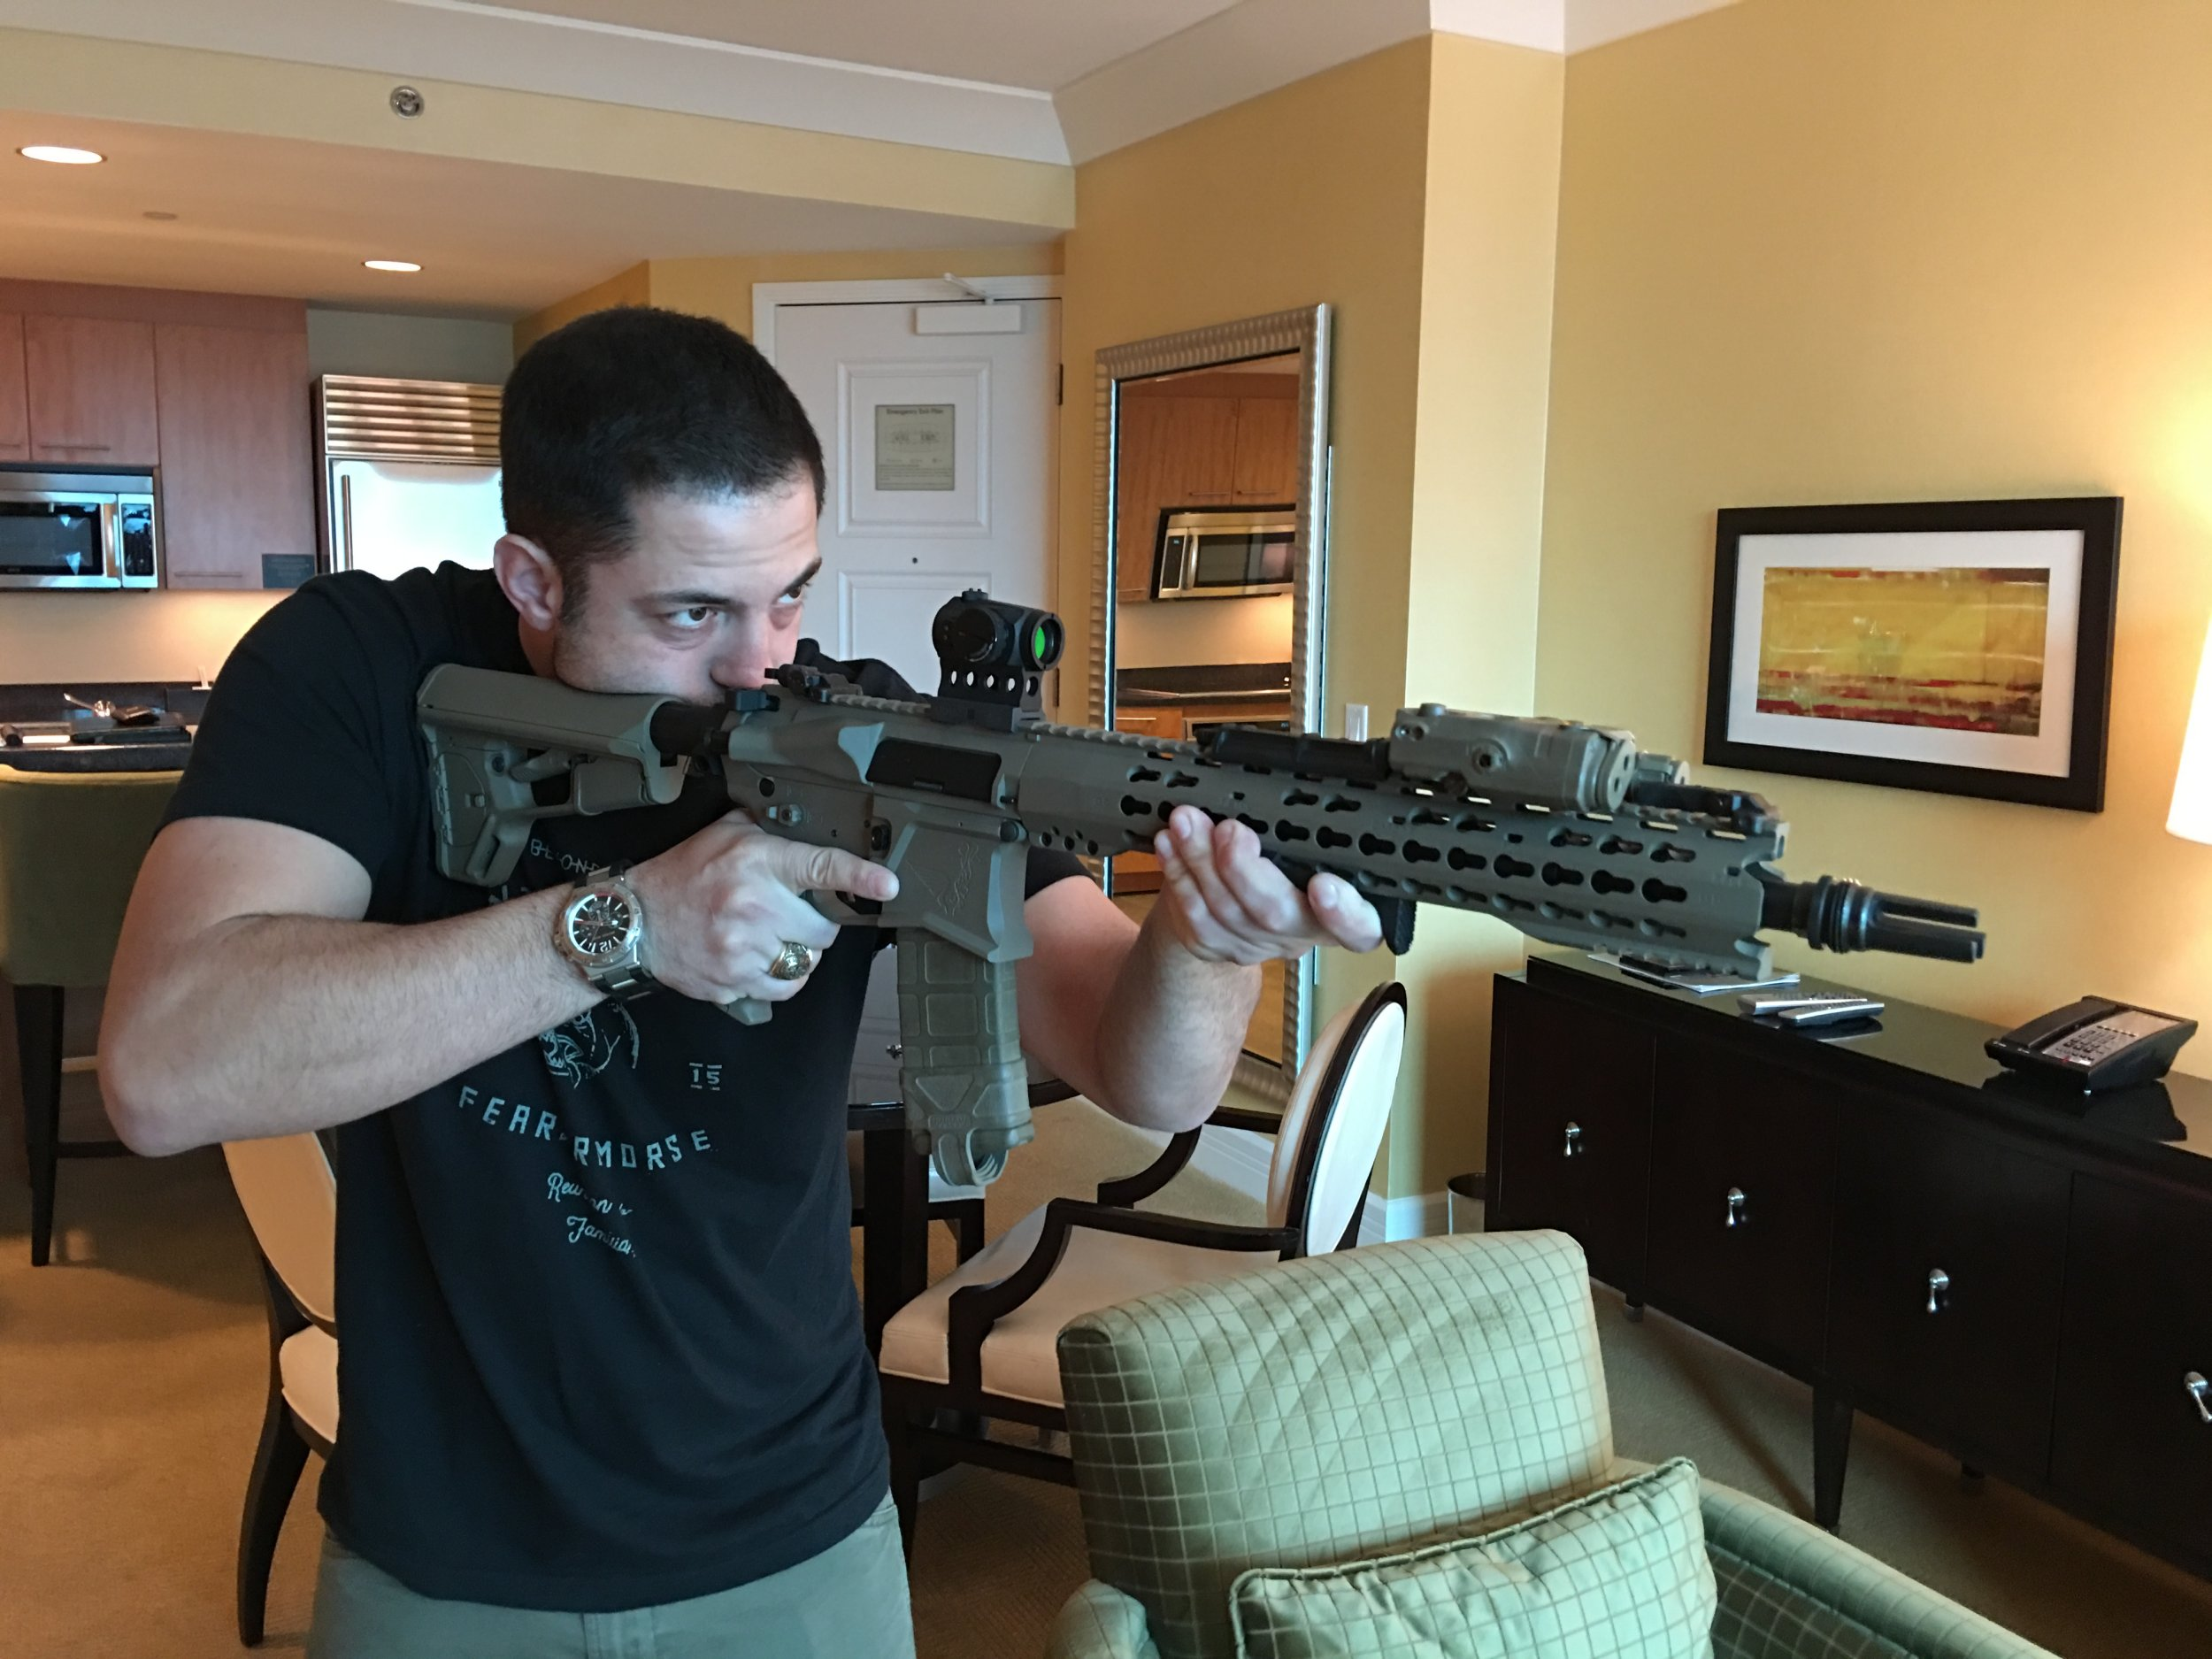Rifle: (402, 599, 1996, 1192)
